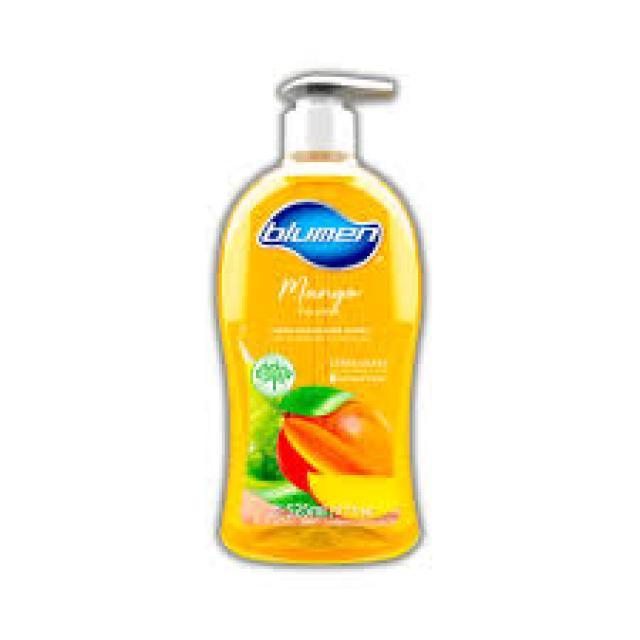Botella: (199, 51, 441, 569)
